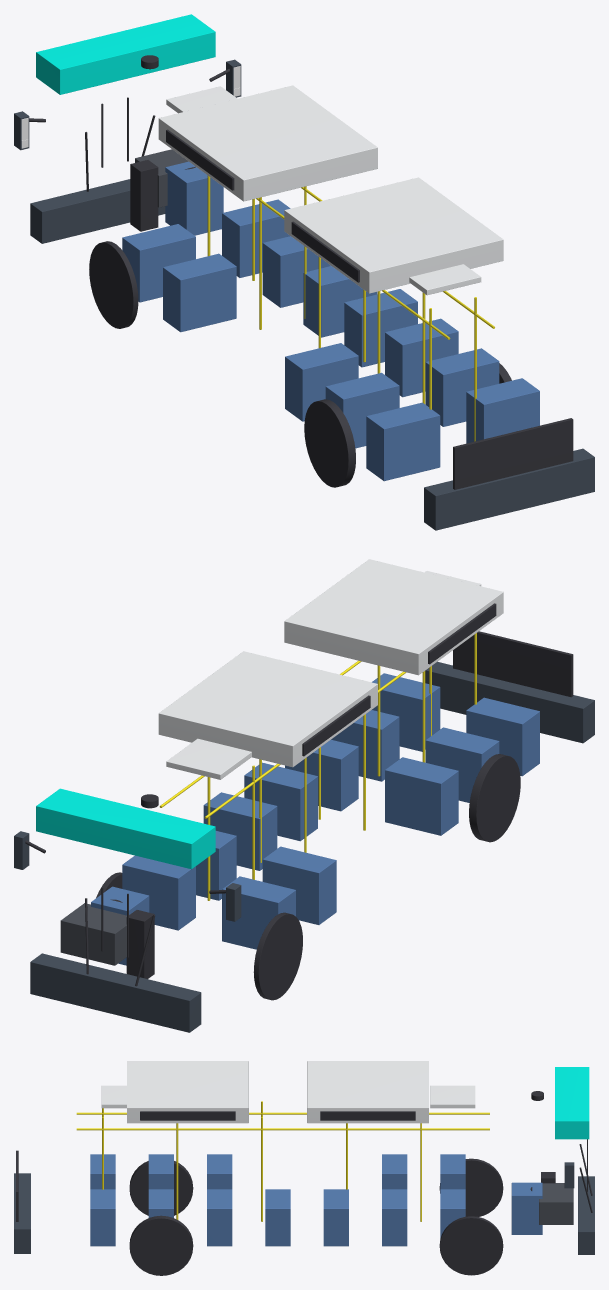
File: exterior_panels.glb
The picture shows the model from 3 angles, top to bottom: view 1: azimuth 30°, elevation 25°; view 2: azimuth 150°, elevation 25°; view 3: azimuth 270°, elevation 25°; orthographic projection. The views are drawn at different scales.
Parts seen in each view (by area): view 1: BODY_Roof_HVAC_Unit_Front_Passenger, BODY_Roof_HVAC_Unit_Rear_Cabin, BODY_Front_Destination_Header_Fairing, BODY_Rear_Bumper_Fascia, BODY_Rear_Engine_Cooling_Louver, INTERIOR_Passenger_Seat_Row_07_R, INTERIOR_Passenger_Seat_Row_02_R, BODY_Front_Bumper_Fascia, INTERIOR_Passenger_Seat_Row_07_L, INTERIOR_Passenger_Seat_Row_06_L, INTERIOR_Passenger_Seat_Row_05_R, BODY_WheelArch_Flare_RR (+15 smaller); view 2: BODY_Roof_HVAC_Unit_Rear_Cabin, BODY_Roof_HVAC_Unit_Front_Passenger, BODY_Front_Destination_Header_Fairing, BODY_Front_Bumper_Fascia, BODY_Rear_Bumper_Fascia, BODY_Rear_Engine_Cooling_Louver, INTERIOR_Passenger_Seat_Row_05_R, INTERIOR_Passenger_Seat_Row_02_R, INTERIOR_Passenger_Seat_Row_01_L, INTERIOR_Passenger_Seat_Row_04_L, INTERIOR_Passenger_Seat_Row_07_R, BODY_WheelArch_Flare_RR (+14 smaller); view 3: BODY_Roof_HVAC_Unit_Front_Passenger, BODY_Roof_HVAC_Unit_Rear_Cabin, BODY_WheelArch_Flare_RL, BODY_WheelArch_Flare_FL, BODY_Front_Destination_Header_Fairing, BODY_WheelArch_Flare_FR, INTERIOR_Driver_Seat_Assembly, BODY_WheelArch_Flare_RR, INTERIOR_Passenger_Seat_Row_04_L, INTERIOR_Passenger_Seat_Row_07_L, INTERIOR_Passenger_Seat_Row_02_L, INTERIOR_Passenger_Seat_Row_03_L (+17 smaller).
Part boxes in pixels (x1,y1,x2,y2): BODY_Roof_HVAC_Unit_Front_Passenger: [158, 85, 377, 201]; BODY_Roof_HVAC_Unit_Rear_Cabin: [284, 177, 503, 293]; BODY_Front_Destination_Header_Fairing: [36, 14, 215, 94]; BODY_Rear_Bumper_Fascia: [424, 448, 594, 530]; BODY_Rear_Engine_Cooling_Louver: [453, 418, 573, 489]; INTERIOR_Passenger_Seat_Row_07_R: [366, 402, 440, 481]; INTERIOR_Passenger_Seat_Row_02_R: [163, 253, 236, 332]; BODY_Front_Bumper_Fascia: [30, 179, 165, 243]; INTERIOR_Passenger_Seat_Row_07_L: [466, 378, 539, 443]; INTERIOR_Passenger_Seat_Row_06_L: [425, 348, 499, 426]; INTERIOR_Passenger_Seat_Row_05_R: [285, 343, 358, 421]; BODY_WheelArch_Flare_RR: [304, 399, 355, 487]; BODY_Roof_HVAC_Unit_Rear_Cabin: [284, 559, 503, 675]; BODY_Roof_HVAC_Unit_Front_Passenger: [158, 651, 377, 767]; BODY_Front_Destination_Header_Fairing: [36, 788, 215, 869]; BODY_Front_Bumper_Fascia: [30, 953, 201, 1032]; BODY_Rear_Bumper_Fascia: [425, 661, 594, 743]; BODY_Rear_Engine_Cooling_Louver: [453, 631, 573, 697]; INTERIOR_Passenger_Seat_Row_05_R: [385, 757, 458, 835]; INTERIOR_Passenger_Seat_Row_02_R: [262, 846, 336, 924]; INTERIOR_Passenger_Seat_Row_01_L: [122, 855, 195, 930]; INTERIOR_Passenger_Seat_Row_04_L: [244, 762, 317, 841]; INTERIOR_Passenger_Seat_Row_07_R: [466, 697, 539, 776]; BODY_WheelArch_Flare_RR: [469, 754, 520, 842]; BODY_Roof_HVAC_Unit_Front_Passenger: [307, 1061, 428, 1123]; BODY_Roof_HVAC_Unit_Rear_Cabin: [127, 1061, 248, 1123]; BODY_WheelArch_Flare_RL: [129, 1215, 193, 1275]; BODY_WheelArch_Flare_FL: [439, 1216, 503, 1275]; BODY_Front_Destination_Header_Fairing: [555, 1067, 589, 1139]; BODY_WheelArch_Flare_FR: [439, 1158, 503, 1216]; INTERIOR_Driver_Seat_Assembly: [511, 1182, 542, 1234]; BODY_WheelArch_Flare_RR: [129, 1161, 193, 1215]; INTERIOR_Passenger_Seat_Row_04_L: [265, 1189, 290, 1246]; INTERIOR_Passenger_Seat_Row_07_L: [90, 1189, 115, 1246]; INTERIOR_Passenger_Seat_Row_02_L: [382, 1189, 407, 1246]; INTERIOR_Passenger_Seat_Row_03_L: [323, 1189, 348, 1246].
Bounding box in the file's own units: 3.45 × 3.36 × 10.96.
